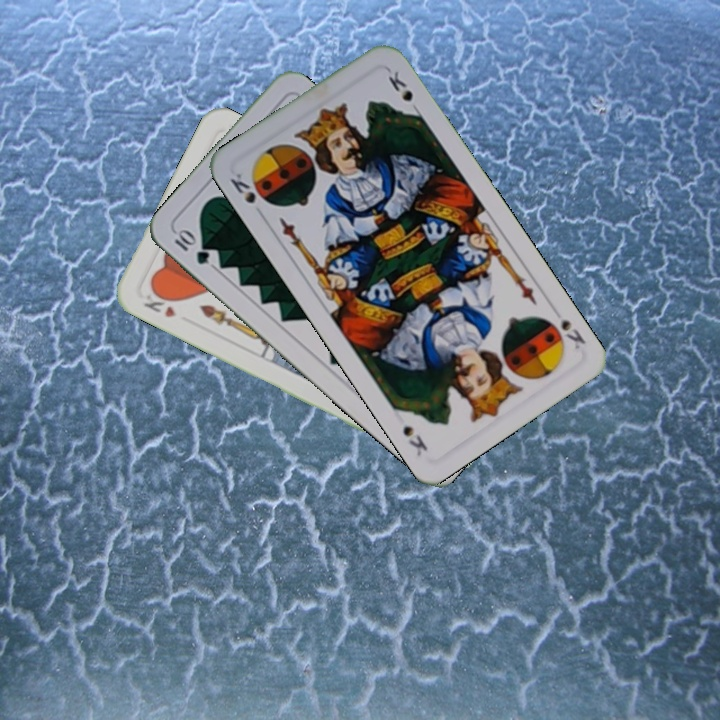G10: (170, 225, 212, 268)
HK: (139, 285, 179, 320)
SK: (547, 304, 588, 352), (226, 168, 259, 207)
